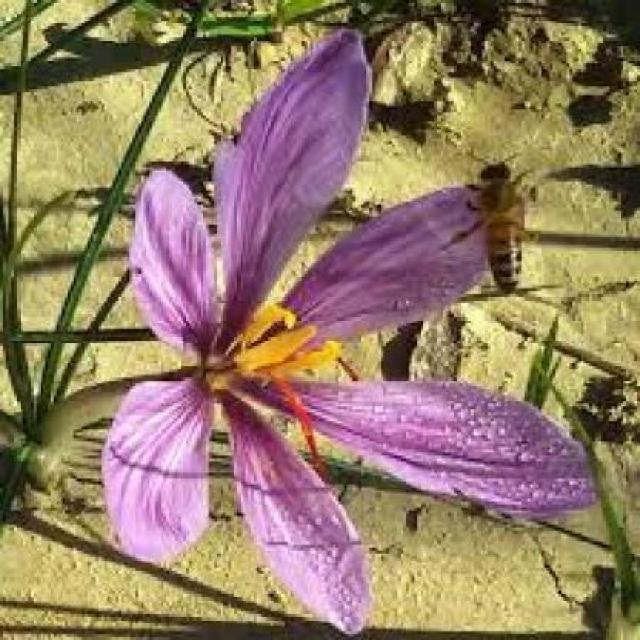Flower: (127, 23, 601, 629)
stigma: (274, 366, 330, 476)
